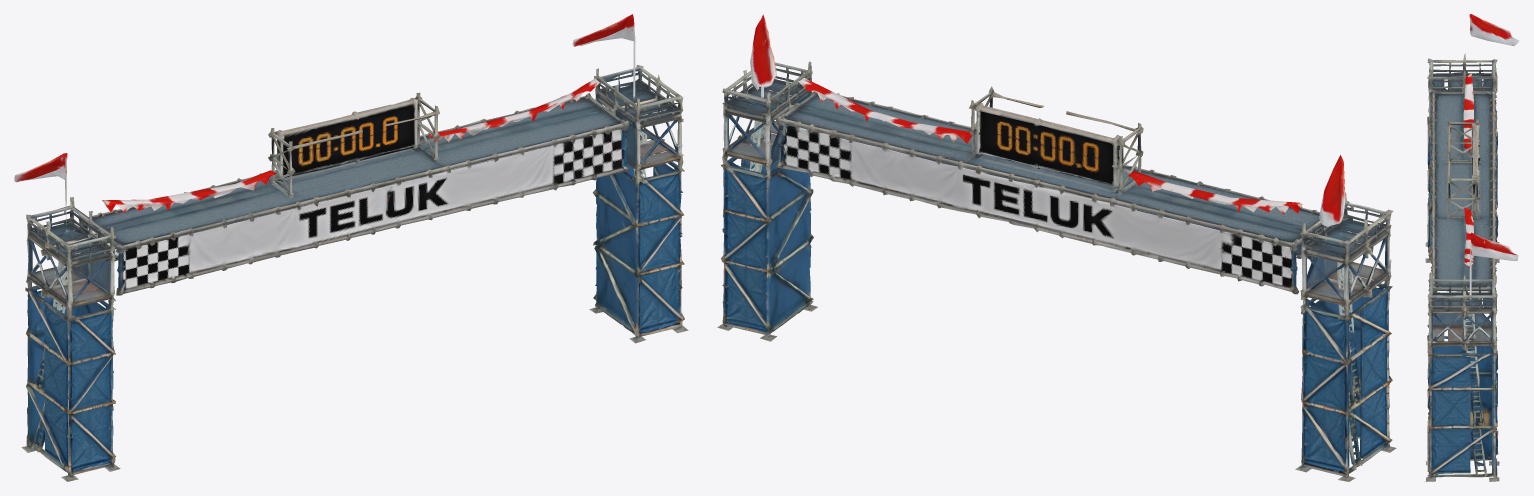
File: teluk-gantry.glb
3 renders of one model, left to right at view 1: azimuth 30°, elevation 25°; view 2: azimuth 150°, elevation 25°; view 3: azimuth 270°, elevation 25°, orthographic. The views are drawn at different scales.
Visible parts, largest first — view 1: teluk-gantry; view 2: teluk-gantry; view 3: teluk-gantry.
Part boxes in pixels (x1,y1,x2,y2): teluk-gantry: [14, 14, 688, 481]; teluk-gantry: [717, 14, 1396, 481]; teluk-gantry: [1425, 14, 1519, 481].
Bounding box in the file's own units: 55.6 × 25.86 × 9.24.
1 material, 1 textured.
